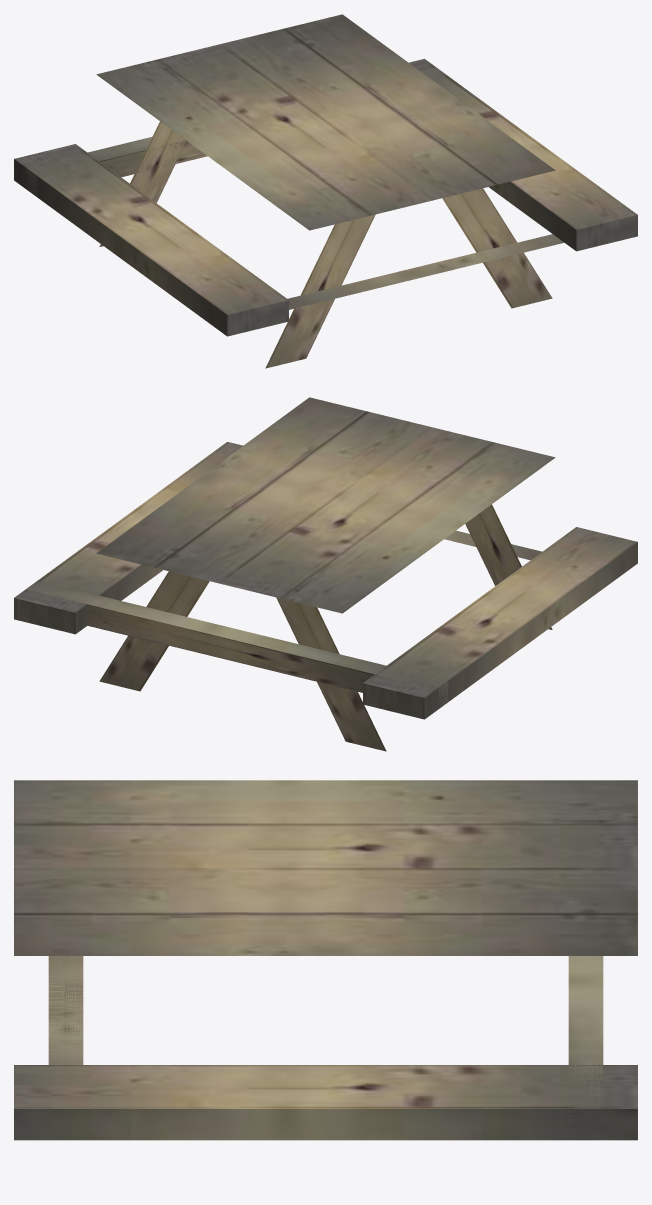
File: na-ptable1.dae
3 views of the same model, one above another, from view 1: azimuth 30°, elevation 25°; view 2: azimuth 150°, elevation 25°; view 3: azimuth 270°, elevation 25° (orthographic). The views are drawn at different scales.
Visible parts, largest first — view 1: S_cube_0_1, S_cube_3_7, S_cube_5_6, S_cube_8_3, S_cube_9_5, S_cube_6_9, S_cube_7_8, S_cube_11_2; view 2: S_cube_0_1, S_cube_3_7, S_cube_7_8, S_cube_5_6, S_cube_11_2, S_cube_10_4, S_cube_8_3, S_cube_6_9; view 3: S_cube_0_1, S_cube_5_6, S_cube_7_8, S_cube_6_9.
Boxes of the visible parts, x1,y1,x2,y2 form: S_cube_0_1: [96, 14, 555, 230]; S_cube_3_7: [14, 144, 288, 336]; S_cube_5_6: [409, 59, 637, 251]; S_cube_8_3: [265, 214, 375, 368]; S_cube_9_5: [442, 188, 552, 308]; S_cube_6_9: [287, 234, 564, 309]; S_cube_7_8: [26, 67, 447, 197]; S_cube_11_2: [99, 121, 186, 246]; S_cube_0_1: [96, 397, 555, 613]; S_cube_3_7: [363, 527, 637, 719]; S_cube_7_8: [26, 580, 448, 708]; S_cube_5_6: [14, 442, 242, 634]; S_cube_11_2: [276, 597, 386, 751]; S_cube_10_4: [99, 571, 209, 691]; S_cube_8_3: [465, 504, 552, 629]; S_cube_6_9: [444, 530, 541, 560]; S_cube_0_1: [14, 780, 637, 955]; S_cube_5_6: [14, 1065, 637, 1140]; S_cube_7_8: [568, 956, 603, 1139]; S_cube_6_9: [48, 956, 83, 1064].
Bounding box in the file's own units: 0.2 × 0.07 × 0.18.
9 materials, 9 textured.
